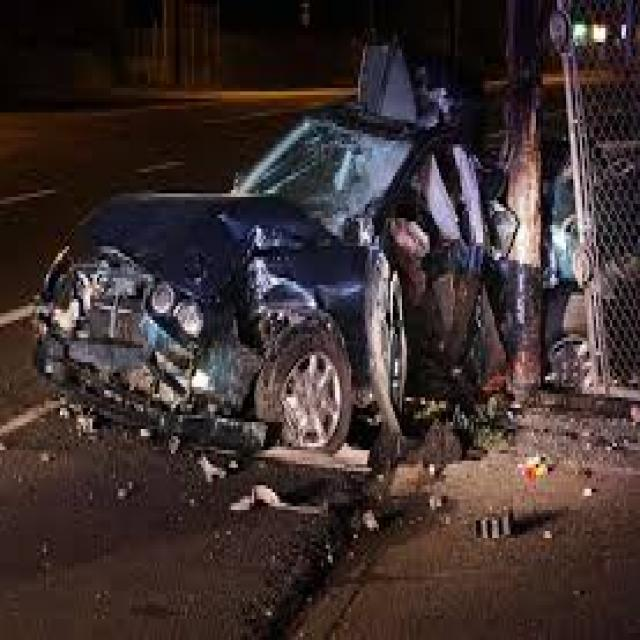severe: (47, 88, 500, 480)
